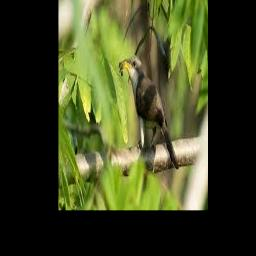Cuckoo: (120, 56, 179, 169)
